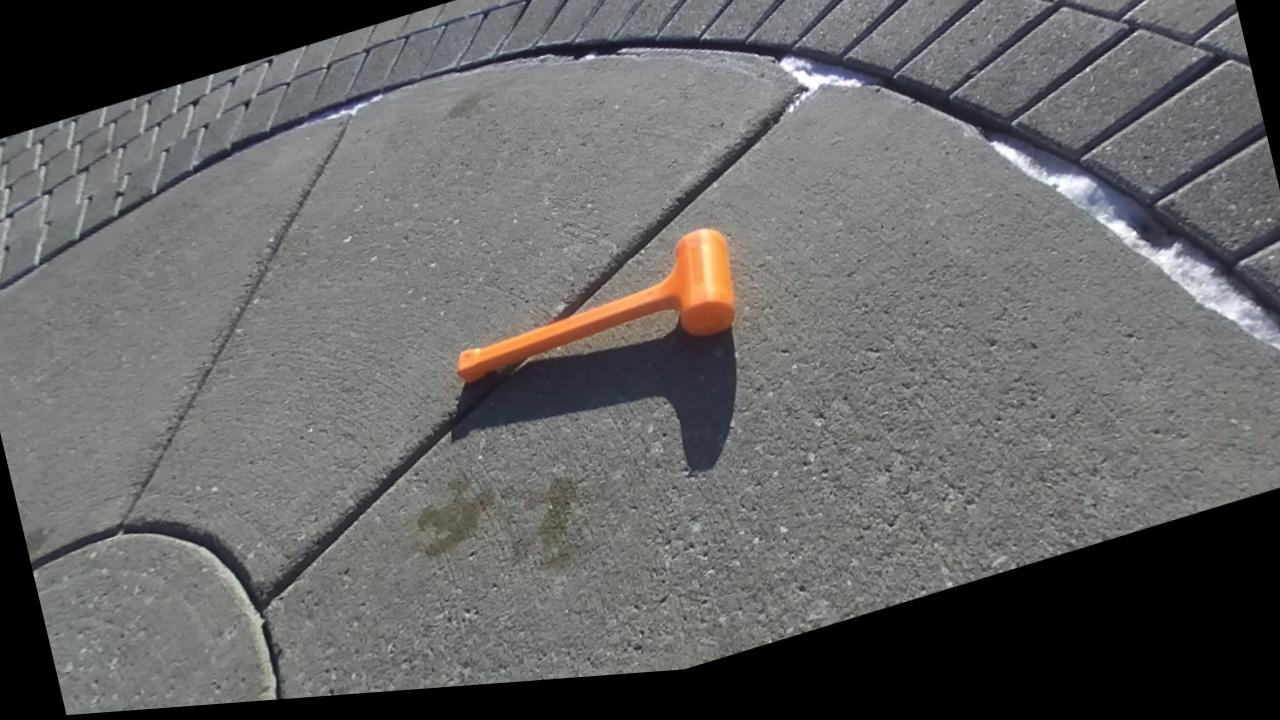mallet: (457, 228, 734, 382)
